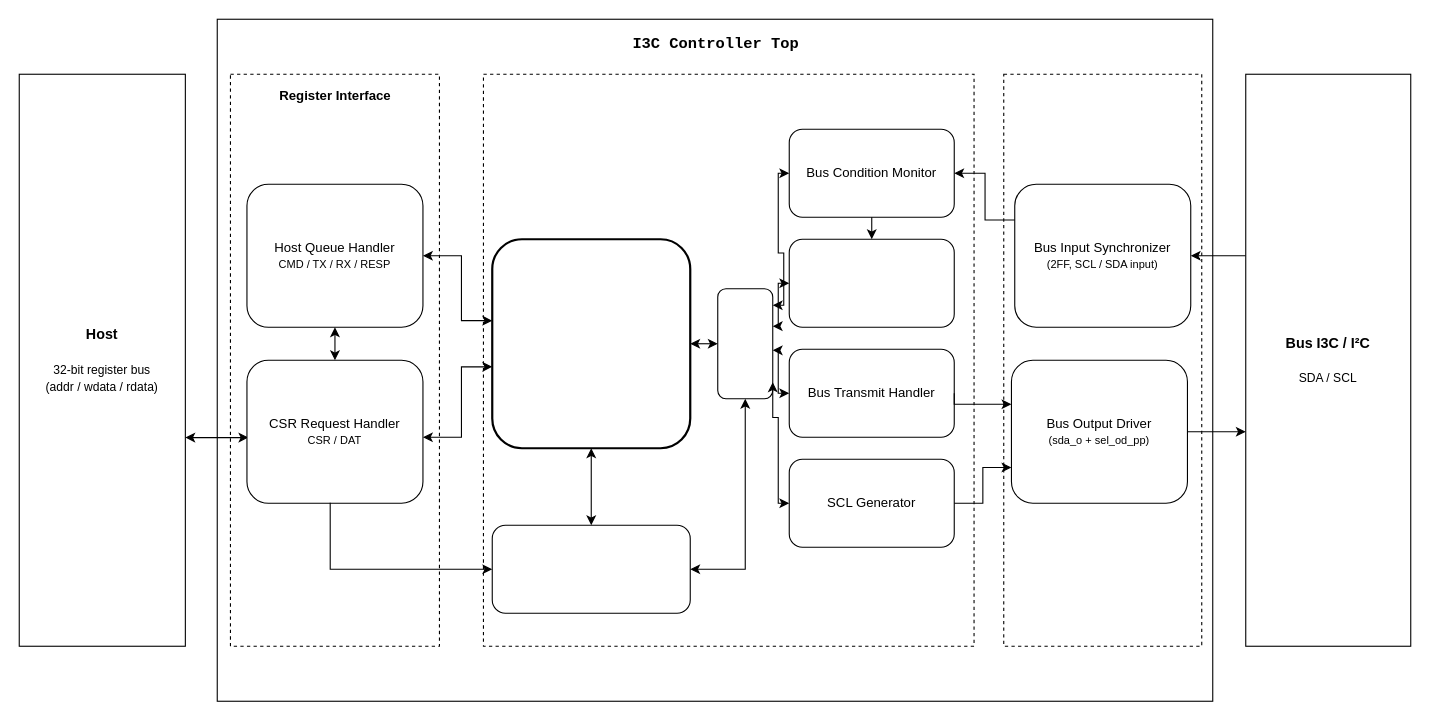
This 1430x721 diagram has some shape labels left out. The shapes that lost their labels are listed below. From the top down, each one's box as (x1, y1, x2, y2) in pixels, then its label:
(788, 238, 954, 327): Bus Receive Handler
(491, 238, 691, 449): I3C Transaction Processor
(482, 73, 974, 646): I3C Protocol Controller
(717, 288, 773, 399): Shared Bus Control
(1003, 73, 1202, 646): Physical Layer
(491, 524, 690, 613): DAA Processor
